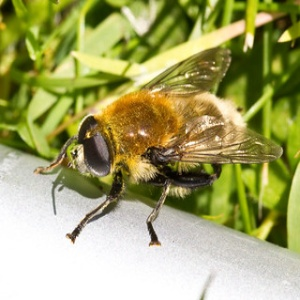bee: (40, 46, 285, 260)
